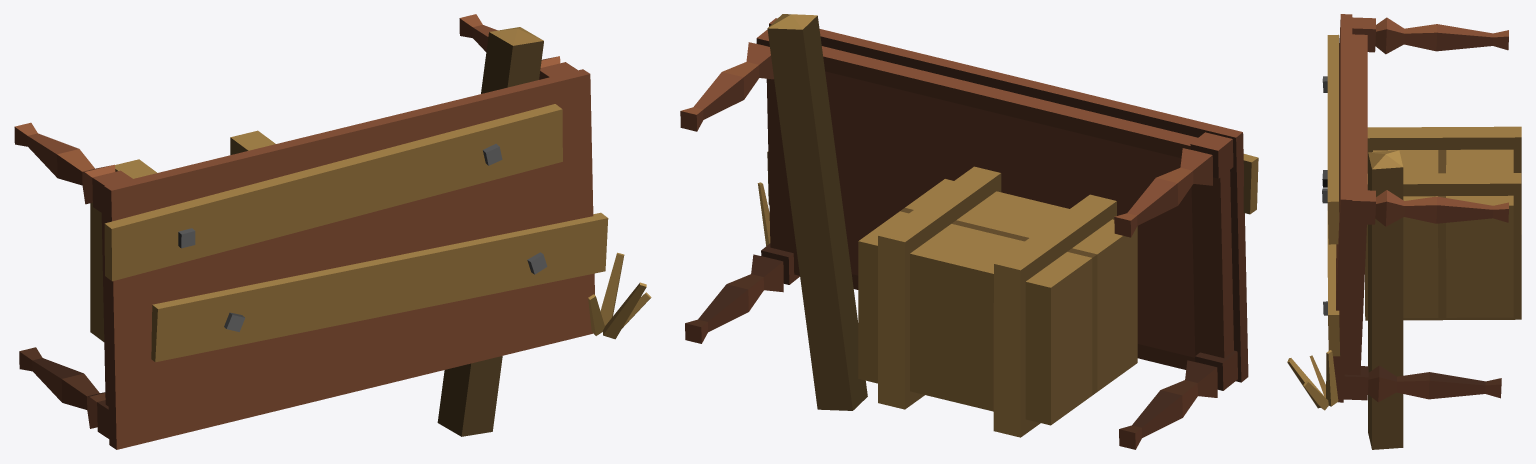
The model's file is FenceSmall_03.fbx.
3 renders of one model, left to right at view 1: azimuth 30°, elevation 25°; view 2: azimuth 150°, elevation 25°; view 3: azimuth 270°, elevation 25°, orthographic. The views are drawn at different scales.
Parts seen in each view (by area): view 1: FenceSmall_03; view 2: FenceSmall_03; view 3: FenceSmall_03.
Boxes of the visible parts, x1,y1,x2,y2 form: FenceSmall_03: (14, 14, 651, 449); FenceSmall_03: (680, 14, 1258, 449); FenceSmall_03: (1287, 14, 1521, 449).
Bounding box in the file's own units: 4.29 × 2.09 × 3.04.
